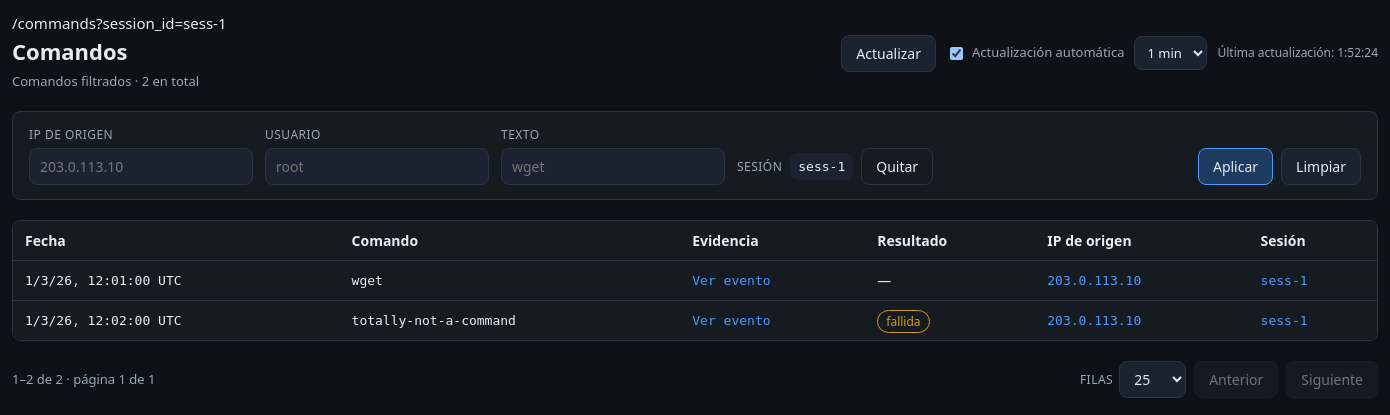
Test: RF-09 consulta de comandos › muestra la sesión como filtro visible y permite quitarla
This screenshot has width=1390, height=415.
Expected: the text "Sesión" is shown, top-left (737, 158), bottom-right (782, 176)
Expected: the table is shown, top-left (13, 221), bottom-right (1377, 340)
Click the button "Quitar".
click(897, 166)  # box top-left (861, 148), bottom-right (933, 185)
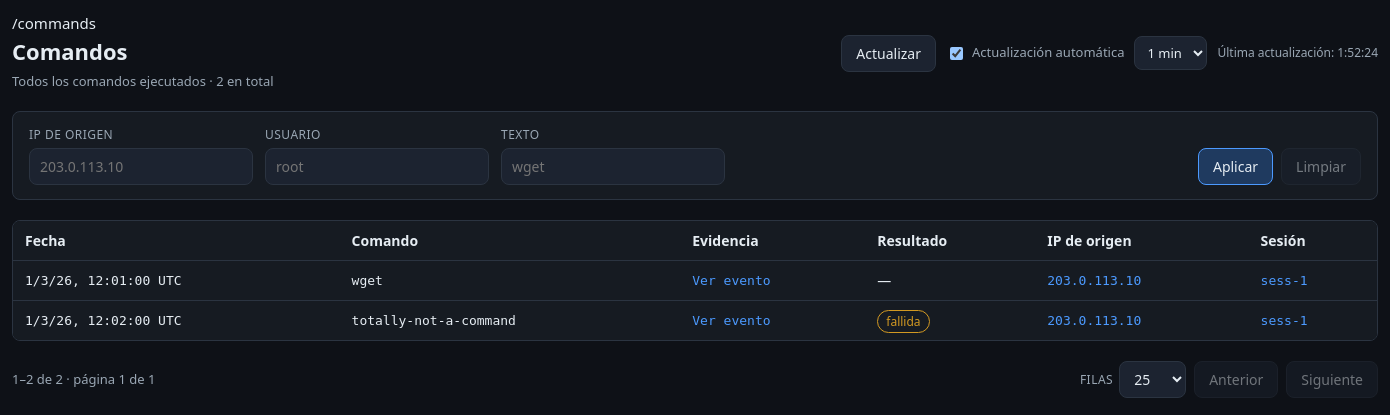
Now the text with test id "location" no longer shows "session_id"
